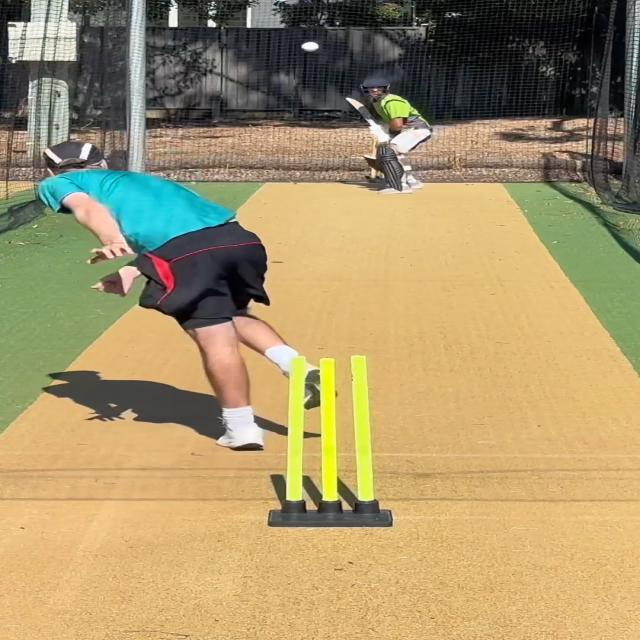ball: (300, 39, 324, 54)
stump: (261, 356, 393, 526)
